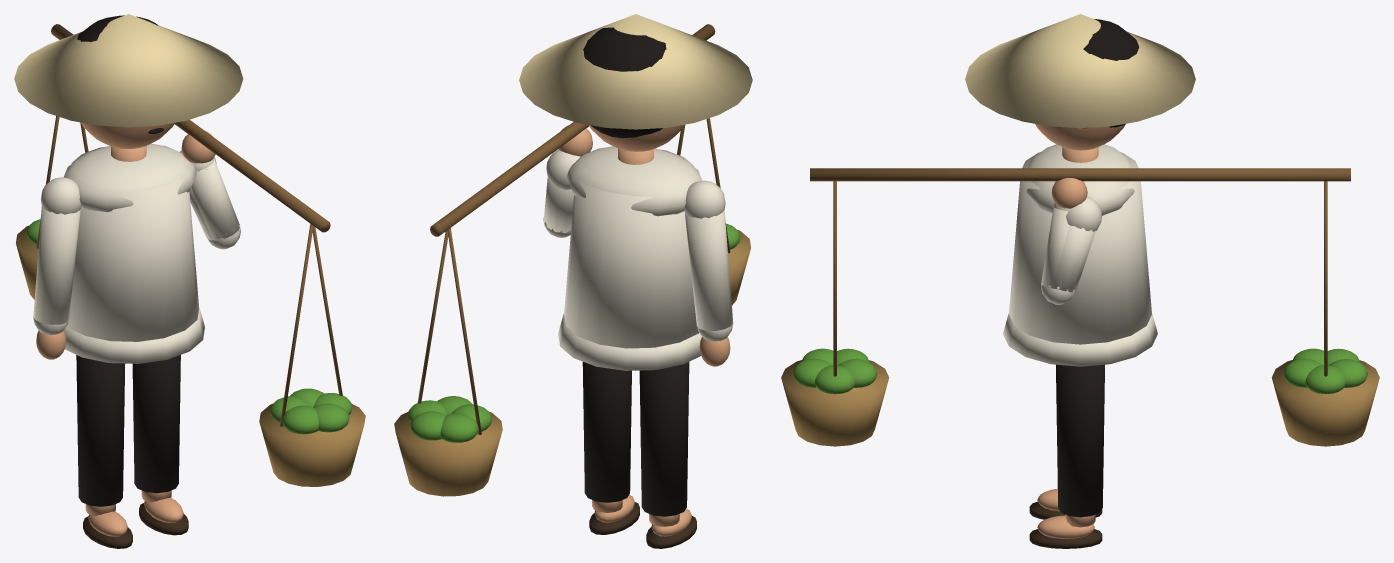
File: villager_woman_ganh.glb
3 views of the same model, side by side, from view 1: azimuth 30°, elevation 25°; view 2: azimuth 150°, elevation 25°; view 3: azimuth 270°, elevation 25° (orthographic).
Parts seen in each view (by area): view 1: Body, Head, LegL, LegR, ArmL, ArmR; view 2: Body, Head, LegL, LegR, ArmL, ArmR; view 3: Body, Head, LegR, ArmR, LegL.
Boxes of the visible parts, <box> form: Body: <box>16,24,365,486</box>; Head: <box>14,14,243,148</box>; LegL: <box>76,355,132,548</box>; LegR: <box>132,355,188,535</box>; ArmL: <box>33,177,81,359</box>; ArmR: <box>180,131,240,249</box>; Body: <box>394,24,750,496</box>; Head: <box>519,14,752,151</box>; LegL: <box>639,362,696,548</box>; LegR: <box>582,362,639,534</box>; ArmL: <box>684,180,733,366</box>; ArmR: <box>543,125,592,237</box>; Body: <box>781,144,1379,446</box>; Head: <box>965,14,1195,150</box>; LegR: <box>1029,364,1104,548</box>; ArmR: <box>1041,178,1101,304</box>; LegL: <box>1029,488,1102,519</box>.
Bounding box in the file's own units: 0.67 × 1.57 × 1.66.
